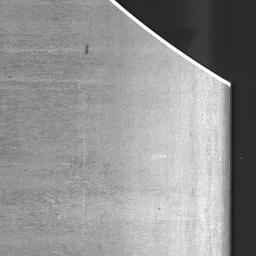Crescent gap: (120, 0, 229, 81)
